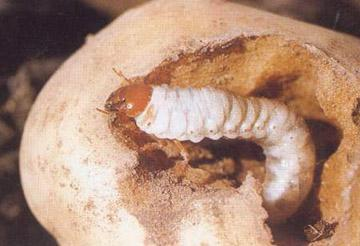grub: (105, 78, 321, 222)
